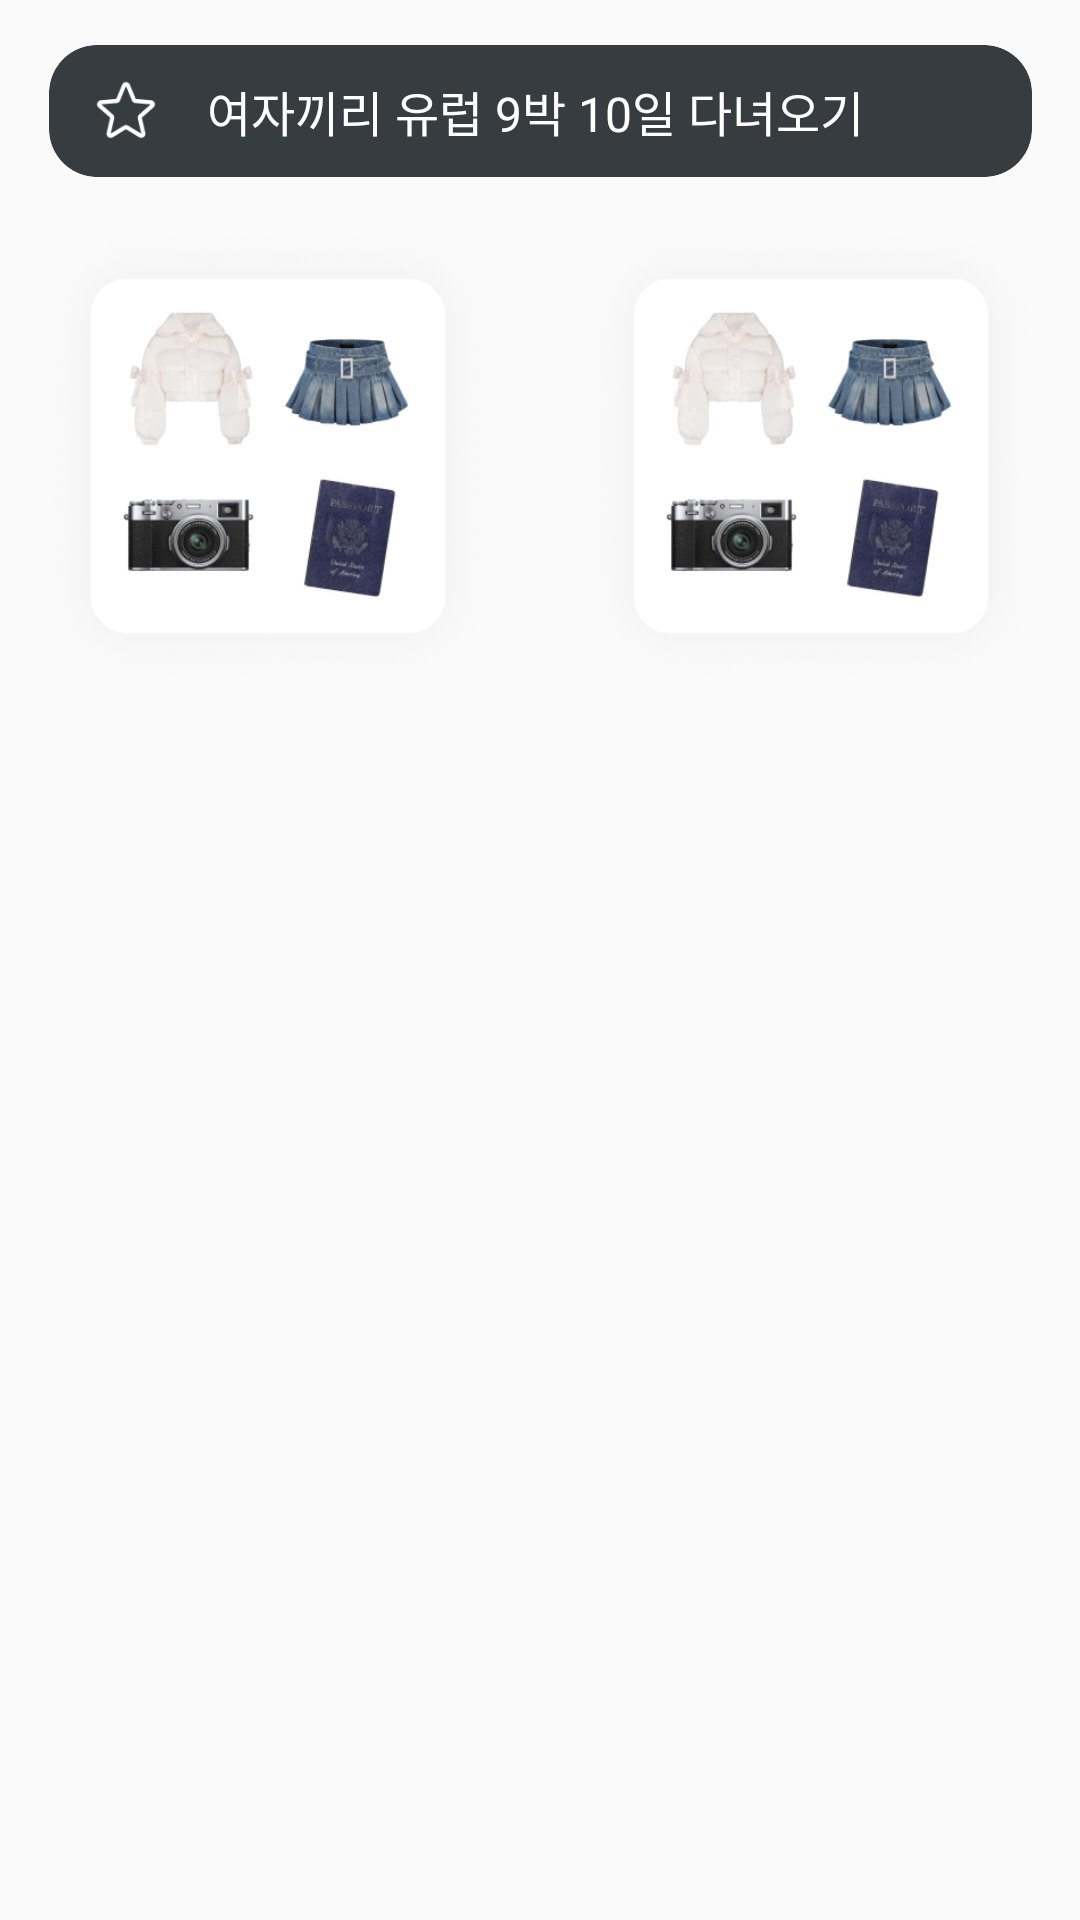

Icons on this 1080×1920 Android screen, each with the point to tap as (x,y):
star empty: (126,109)
